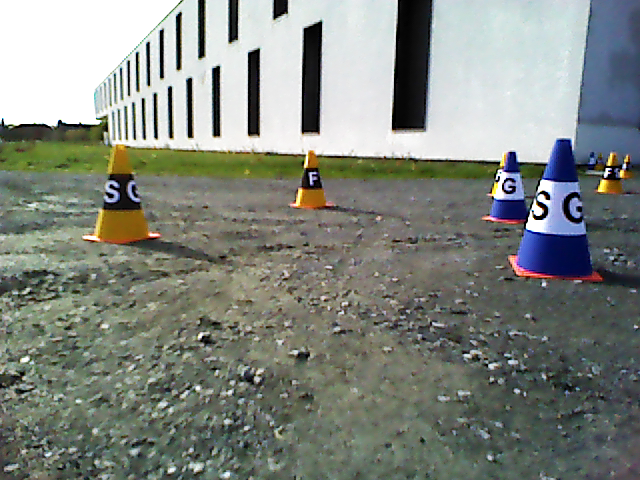bluecone: (520, 139, 589, 267), (491, 152, 527, 217)
yellowcone: (96, 144, 146, 238), (296, 151, 325, 205), (598, 151, 622, 191)
